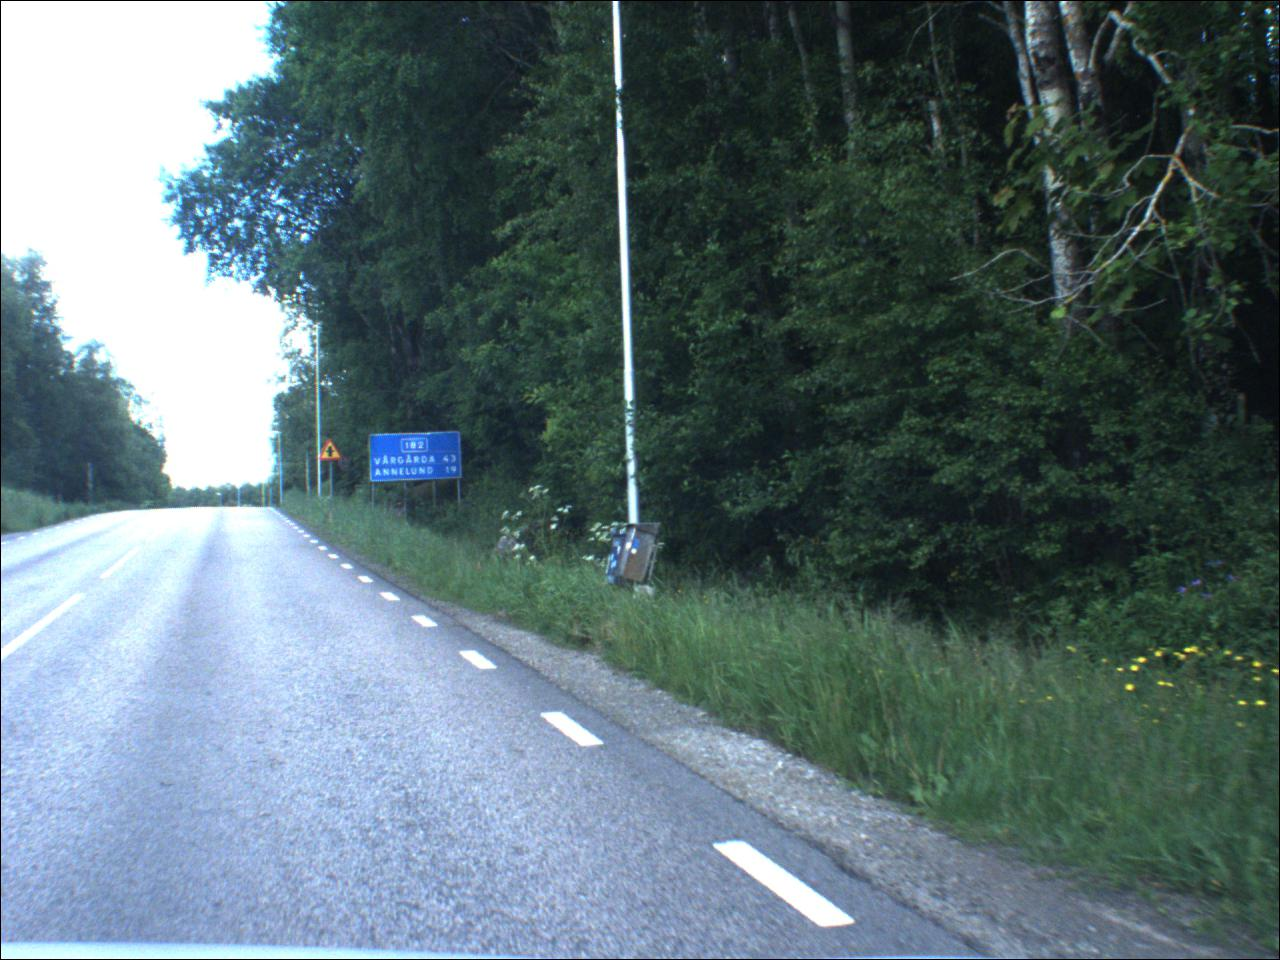WARNING_CROSSING_ROAD: (321, 438, 345, 463)
